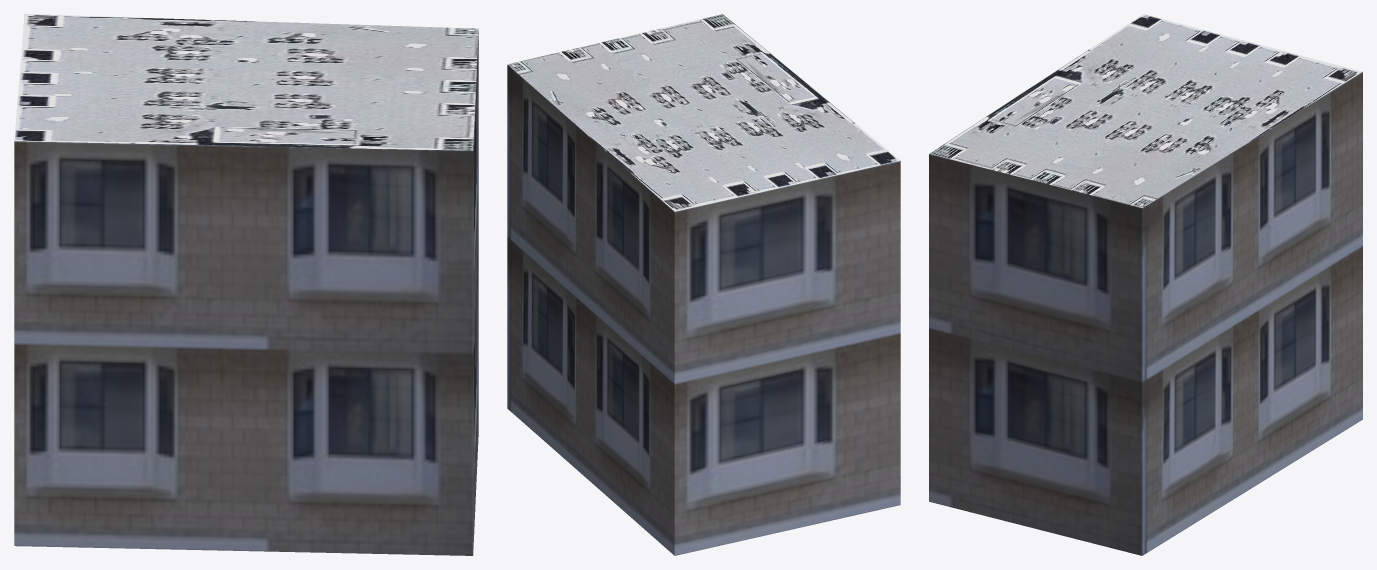
The model's file is ResTex__4294.fbx.
3 renders of one model, left to right at view 1: azimuth 30°, elevation 25°; view 2: azimuth 150°, elevation 25°; view 3: azimuth 270°, elevation 25°, orthographic. The views are drawn at different scales.
Parts seen in each view (by area): view 1: CityEngineMaterial_3_m, CityEngineMaterial_8_m; view 2: CityEngineMaterial_3_m, CityEngineMaterial_8_m; view 3: CityEngineMaterial_3_m, CityEngineMaterial_8_m.
Part boxes in pixels (x1=…): CityEngineMaterial_3_m: x1=14, y1=32, x2=478, y2=555; CityEngineMaterial_8_m: x1=14, y1=14, x2=478, y2=150; CityEngineMaterial_3_m: x1=507, y1=65, x2=900, y2=555; CityEngineMaterial_8_m: x1=507, y1=14, x2=900, y2=211; CityEngineMaterial_3_m: x1=929, y1=72, x2=1362, y2=555; CityEngineMaterial_8_m: x1=929, y1=14, x2=1362, y2=207.
Bounding box in the file's own units: 7.19 × 6 × 6.79.
2 materials, 2 textured.
